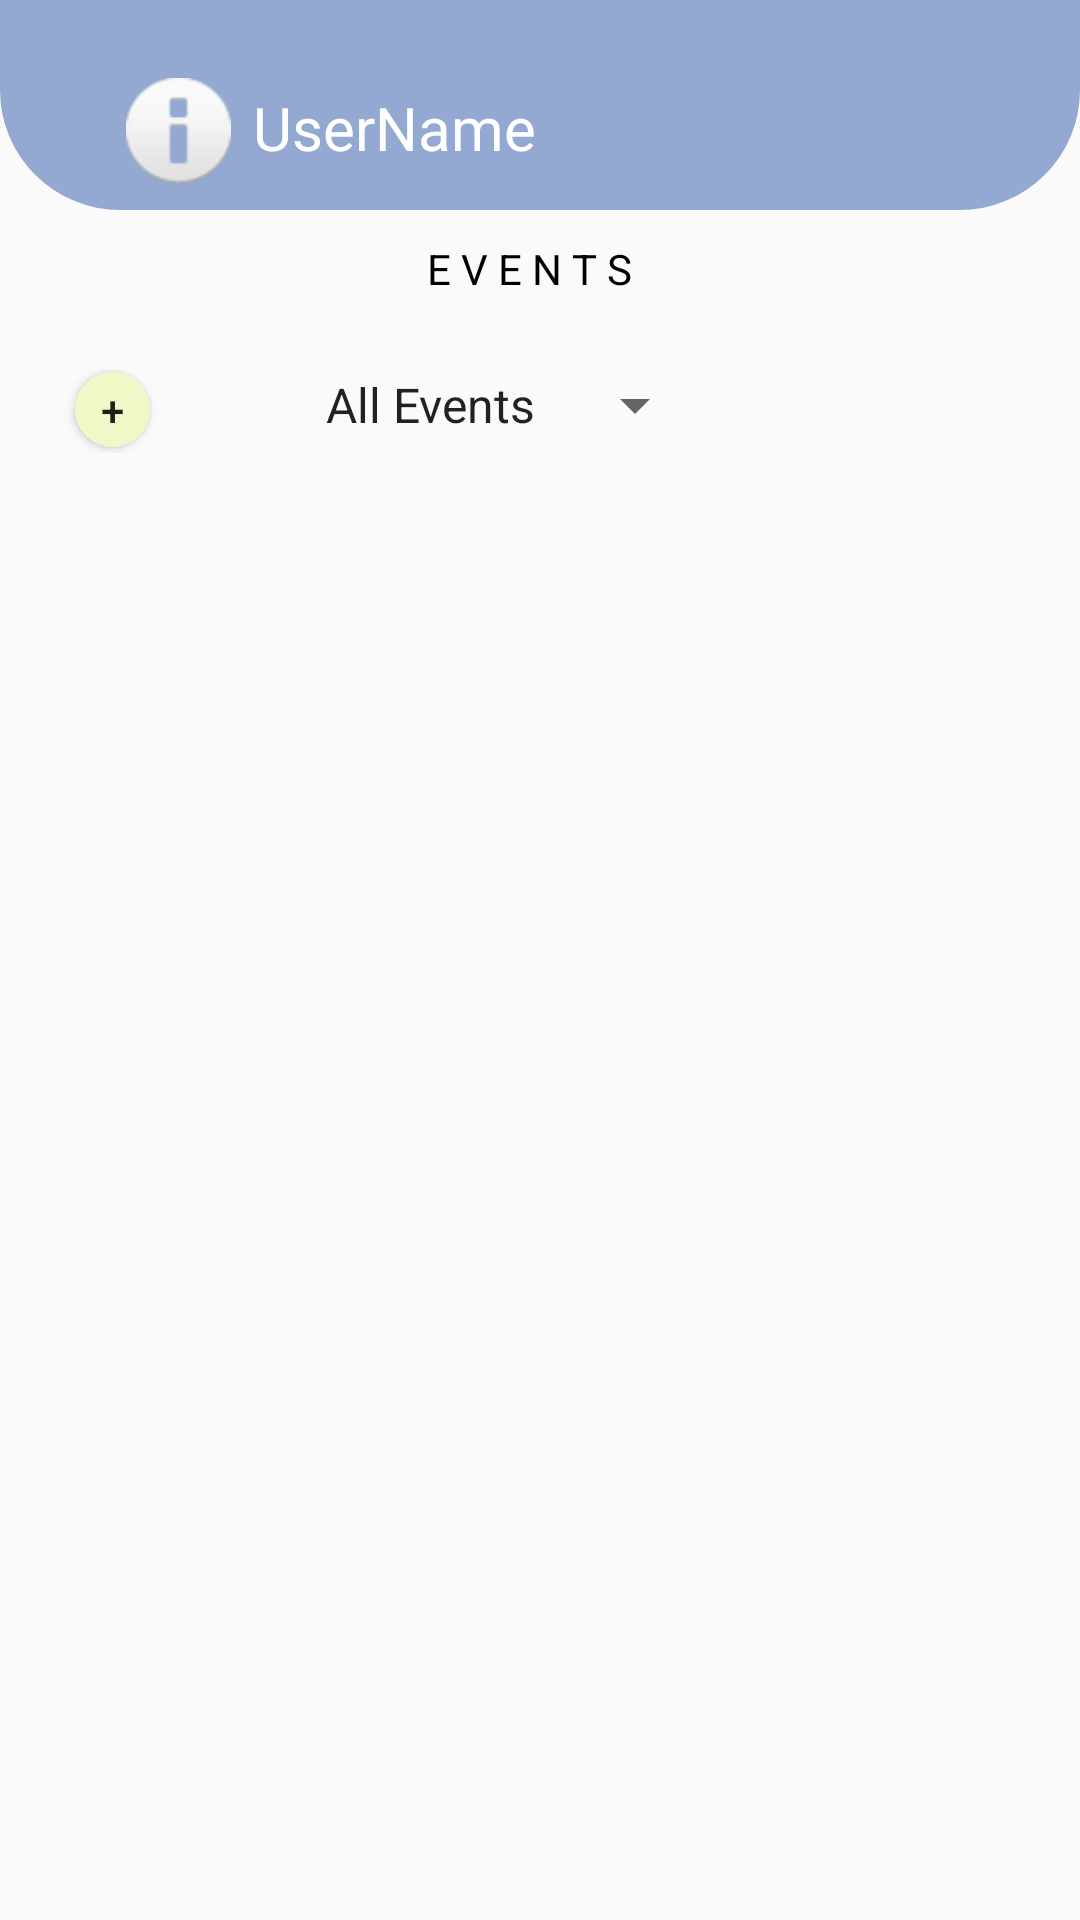

Where icons sit on this 1080px×1920px app screen, as (x1, y1, x2, y2):
info: (126, 78, 231, 183)
